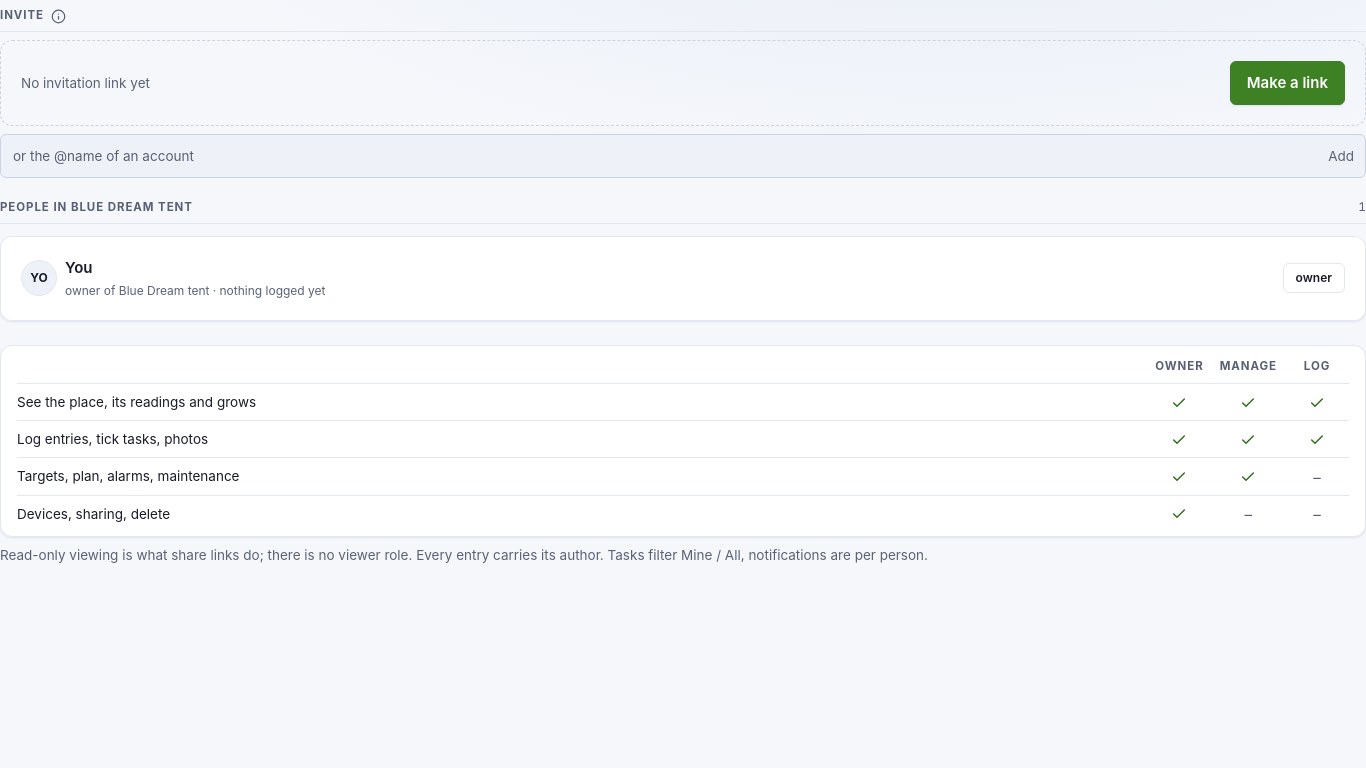
Test: the invitation sheet › sends exactly the role and the validity chosen, then describes the link from the answer
Step 1. Click the button "Make a link" → (1287, 83), box [1230,61,1345,105]
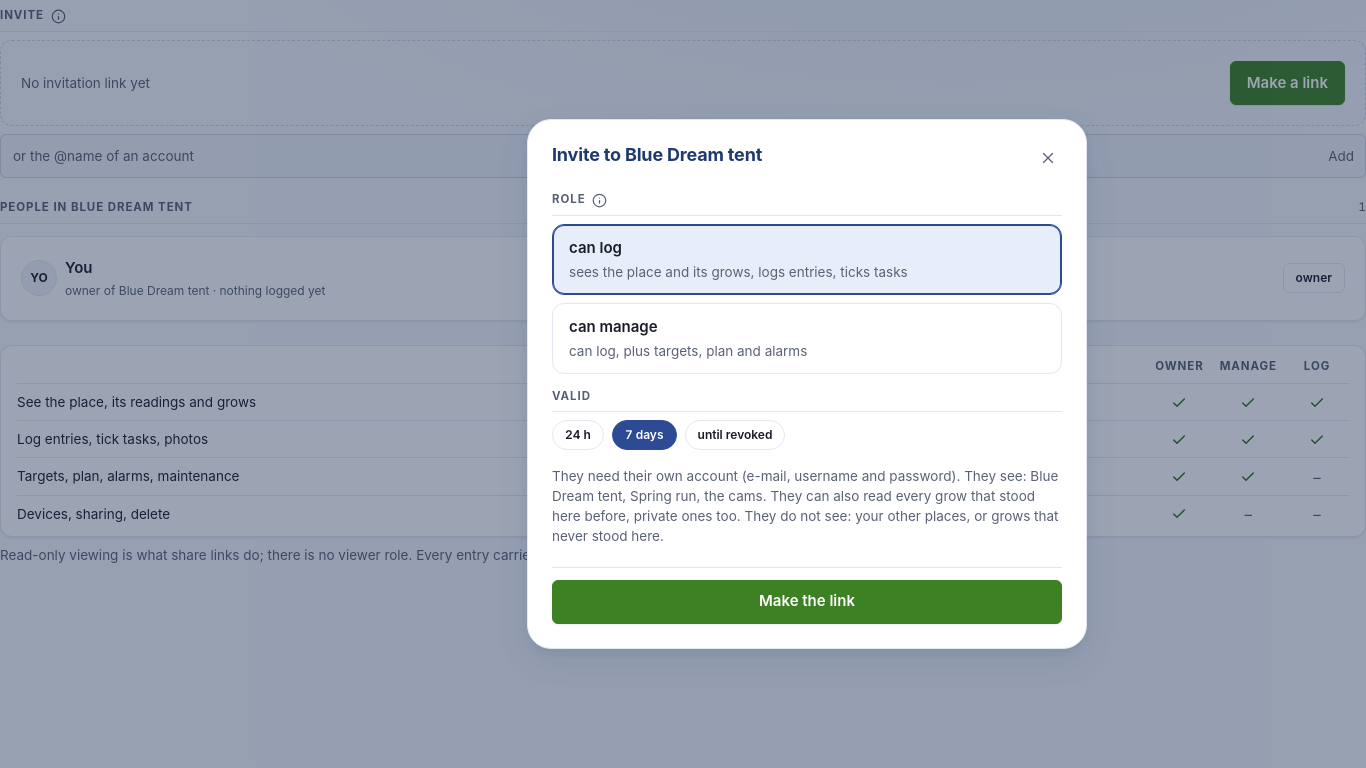
expect the text "They see: Blue Dream tent, Spring run, the cams." is shown: met, box [552,468,1058,504]
Step 2. Click the radio button labelled "can manage can log, plus targets, plan and alarms" → (613, 327), box [552,303,1062,374]
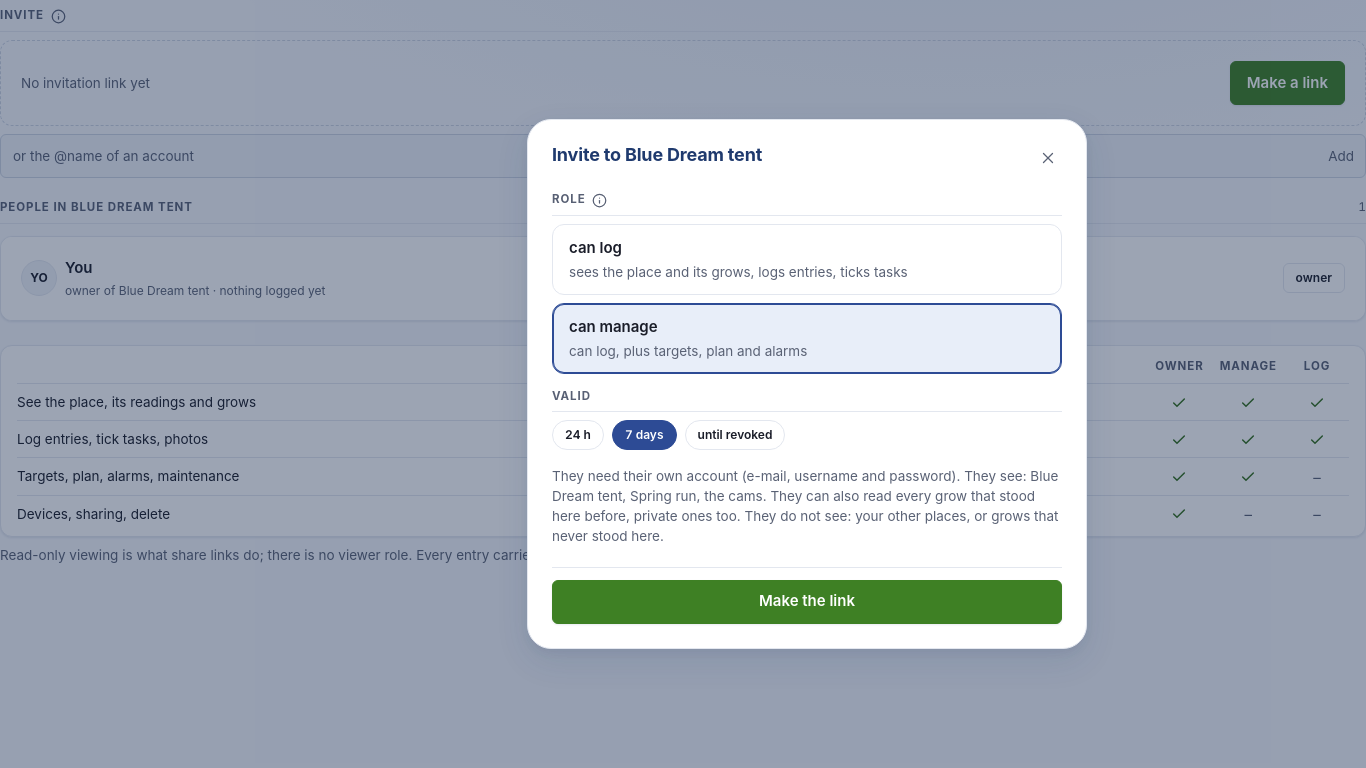
Step 3. Click the button "24 h" → (578, 435), box [552,420,604,450]
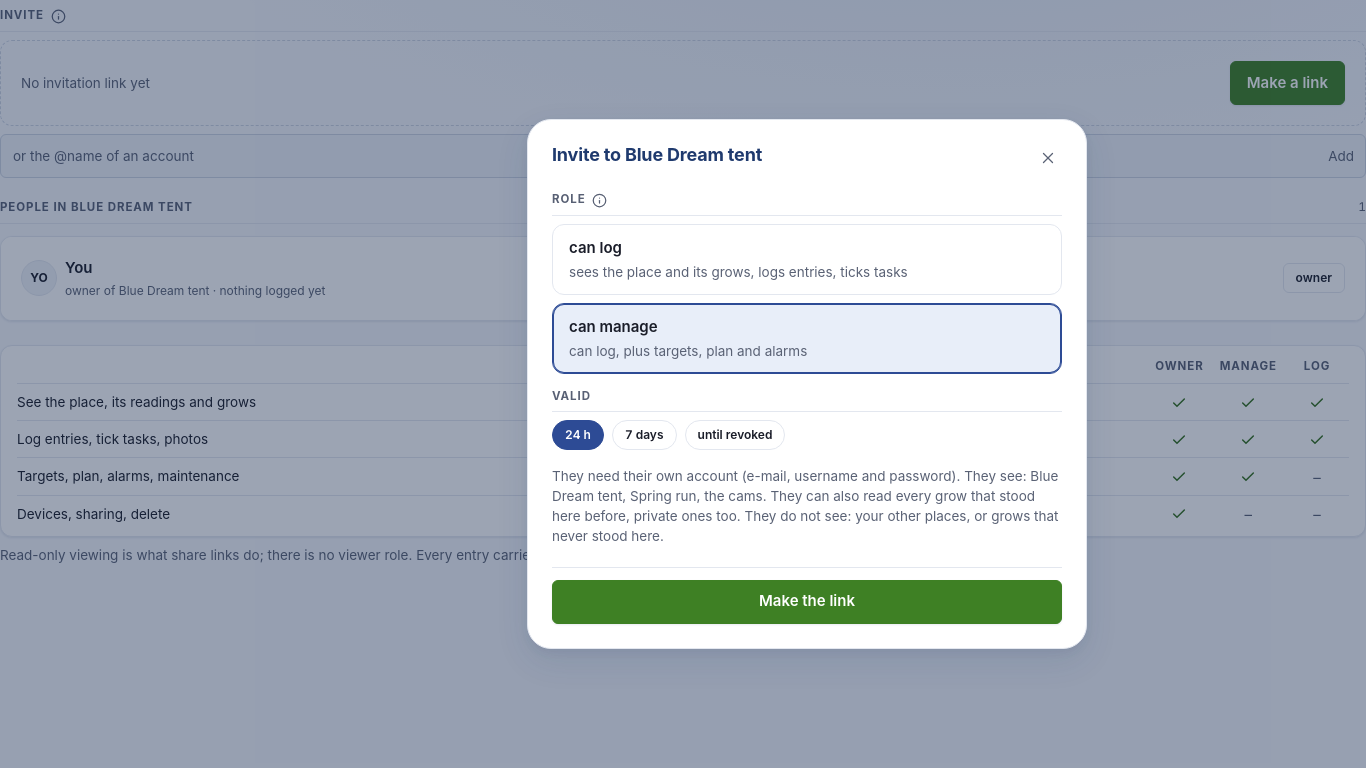
Step 4. Click the button "Make the link" → (807, 602), box [552,580,1062,624]
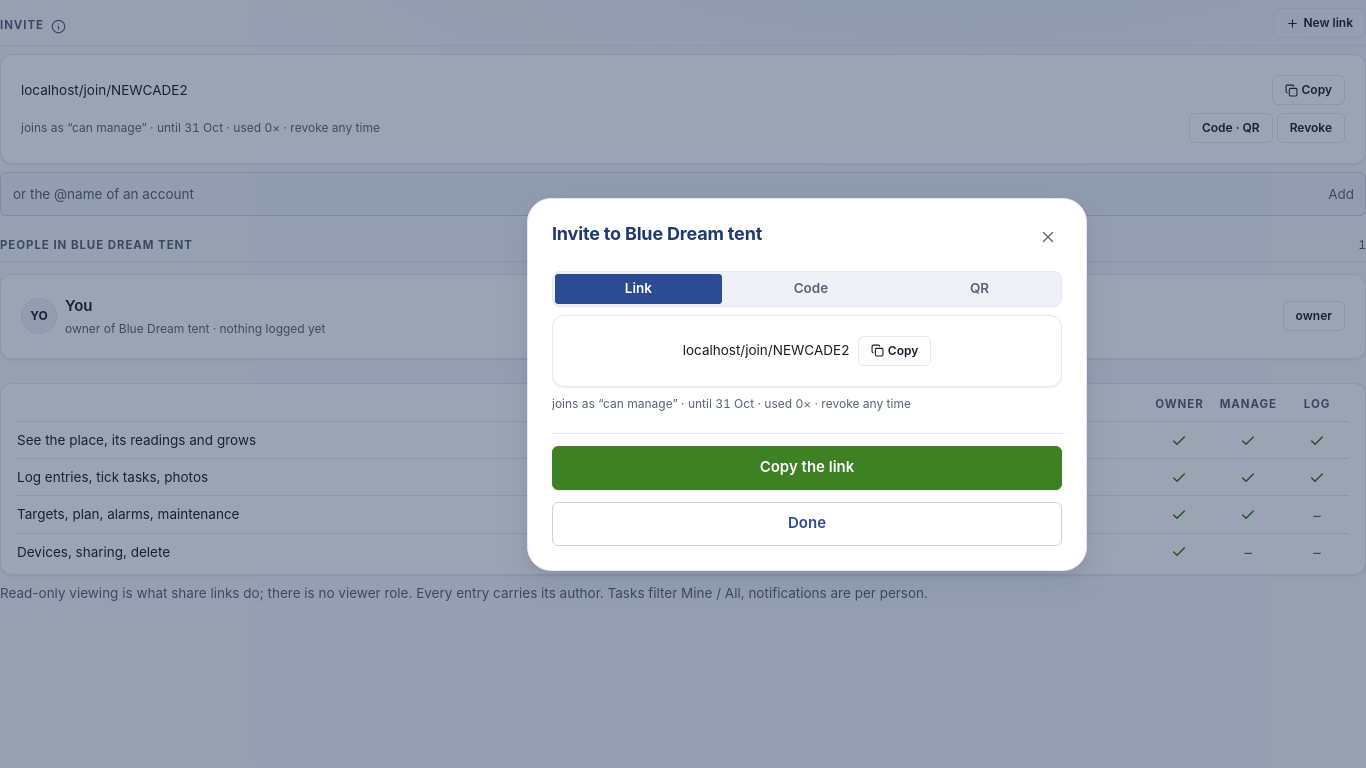
expect the text "localhost/join/NEWCADE2" is shown: met, box [683,340,850,361]
